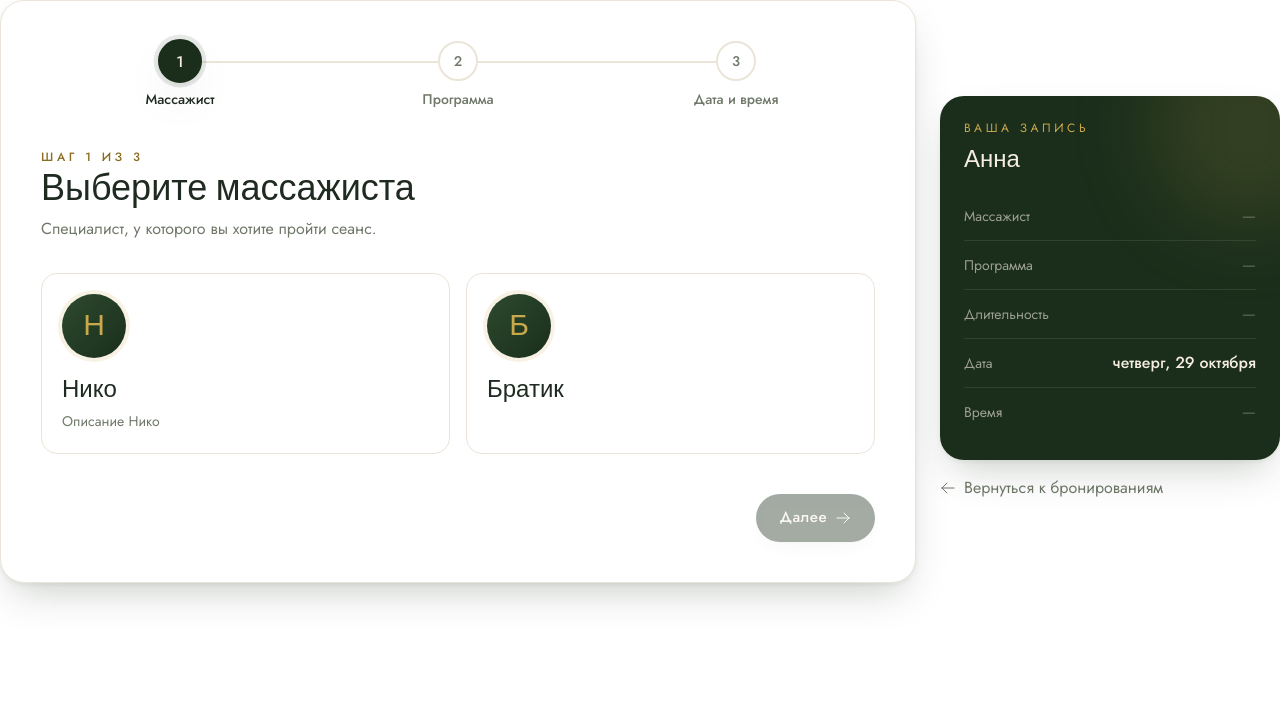
CreateOrEditBookingForm › keeps the summary in sync with the choices
Click the button "Б Братик" at (519, 326), box [466, 273, 875, 454]
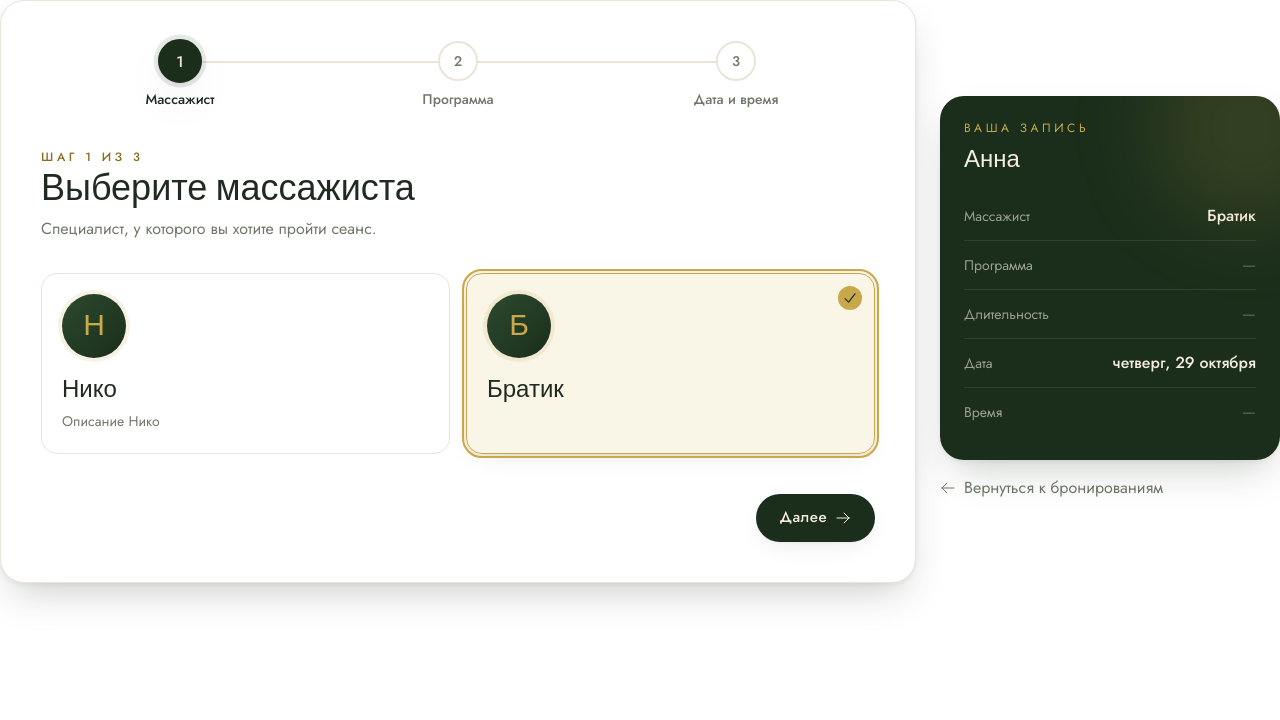
expect the text "Анна" is shown: met, box [964, 145, 1020, 174]
expect the text "Братик" below "Анна" is shown: met, box [1207, 204, 1256, 227]
